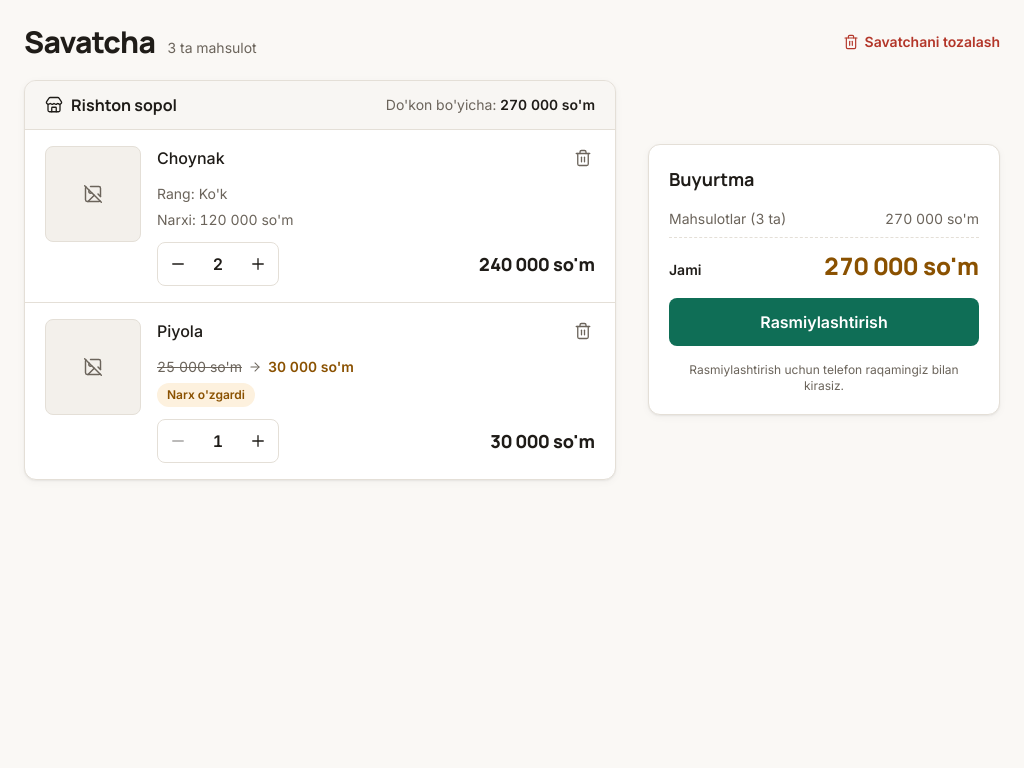
Scenario: CartPage › reports a failed quantity change and restores the line
The image size is (1024, 768).
Click the button named "Ko'paytirish" in the row of "240 000 so'm" at x=258, y=264, box [238, 244, 278, 284]
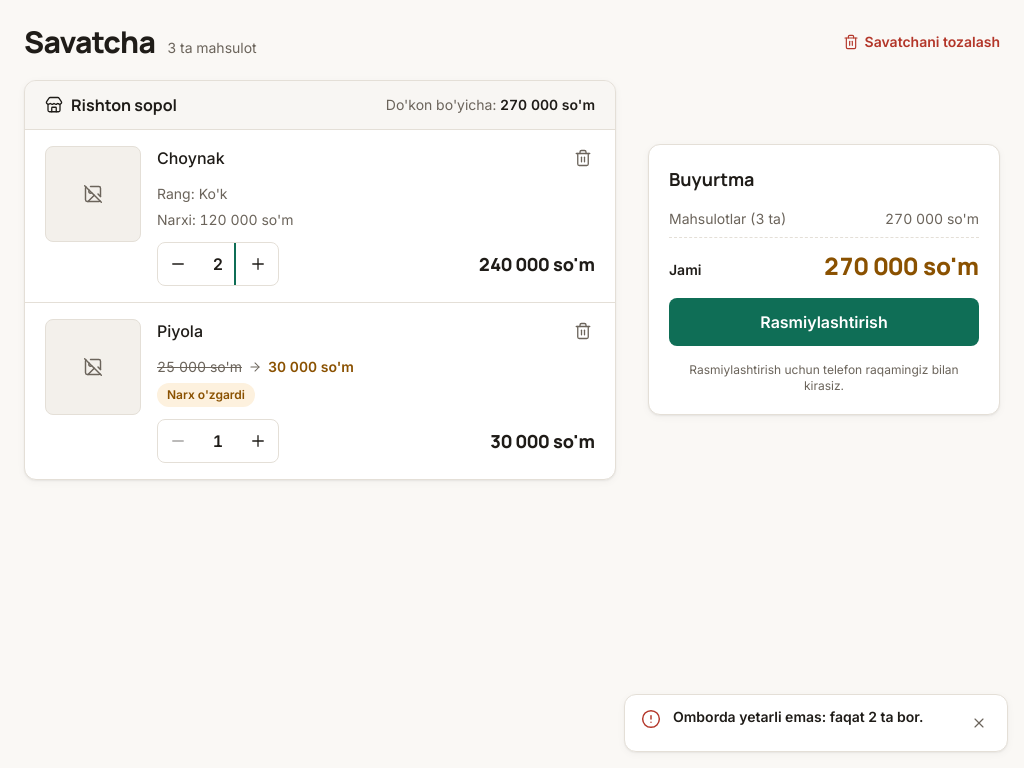
Expected: the number field named "Choynak: soni" holds "2", [198, 243, 238, 285]
Now the text "Omborda yetarli emas: faqat 2 ta bor." is shown, box [673, 707, 951, 727]
